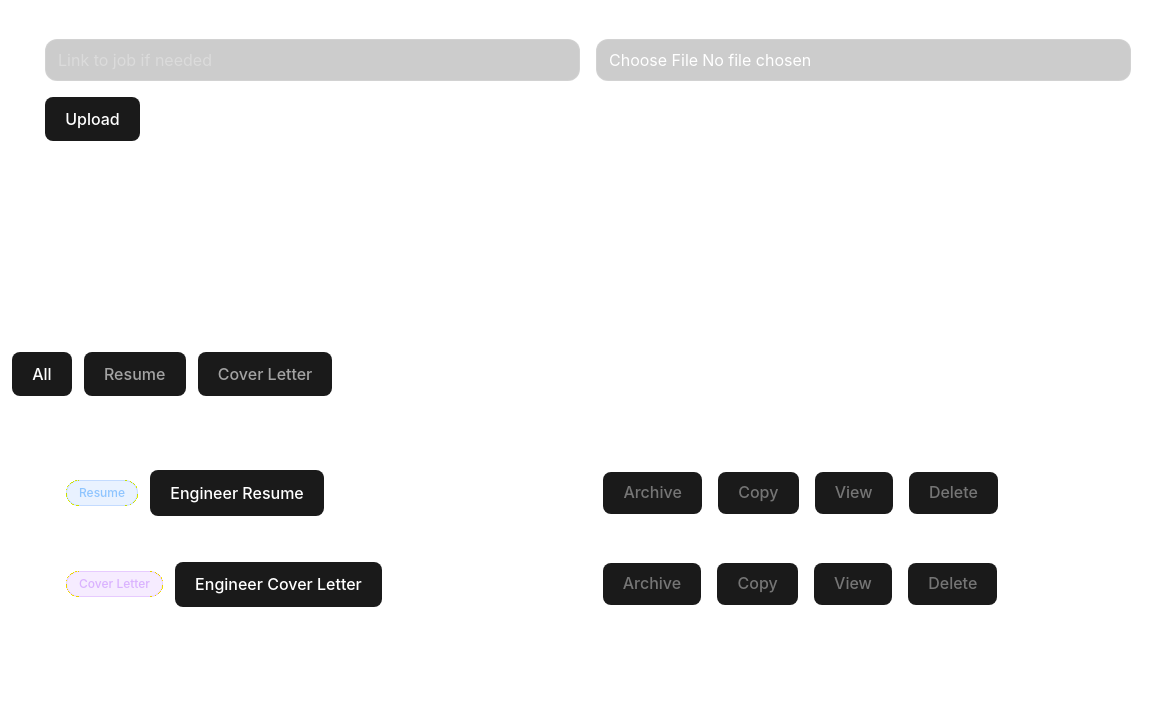
Test: DocumentLibraryPage › archive/restore toggles status without removing the document or changing displayed version
(page scrolled)
Expected: the button "Engineer Resume" is shown, [150,470,324,516]
Click the button with aria-label "archive engineer resume" at (653, 493), box [603,472,702,514]
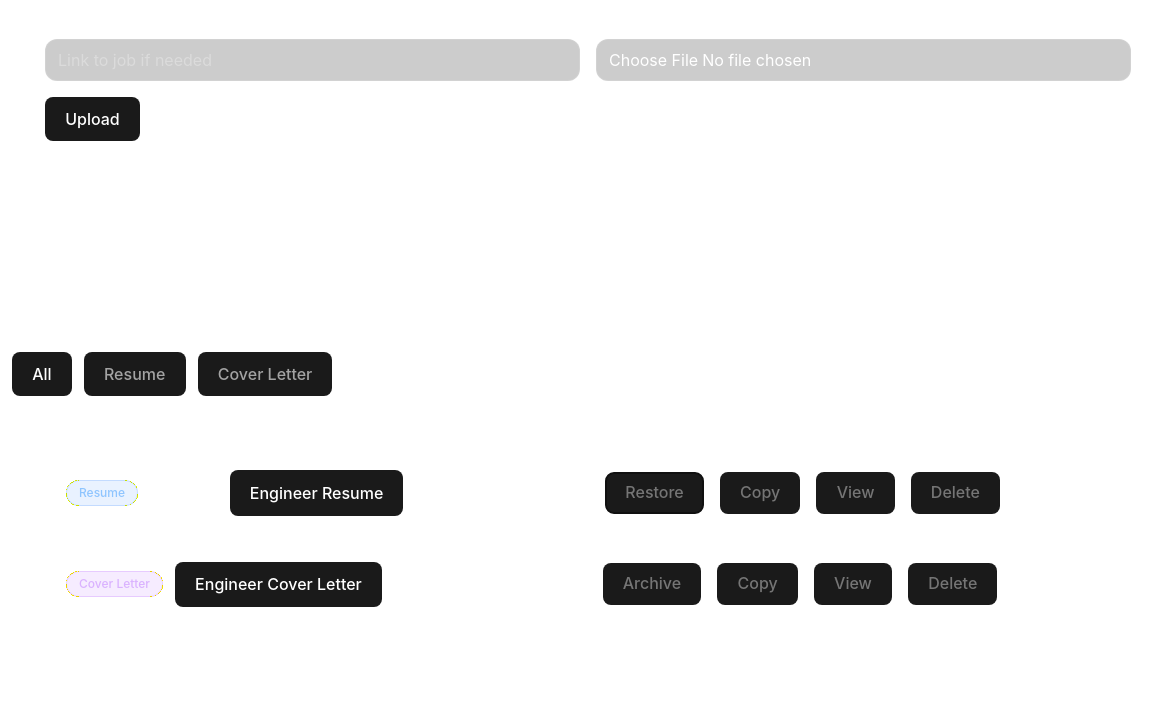
Expected: the button "Engineer Resume" is shown, [230,470,404,516]
Click the button with aria-label "restore engineer resume" at (654, 493), box [605,472,704,514]
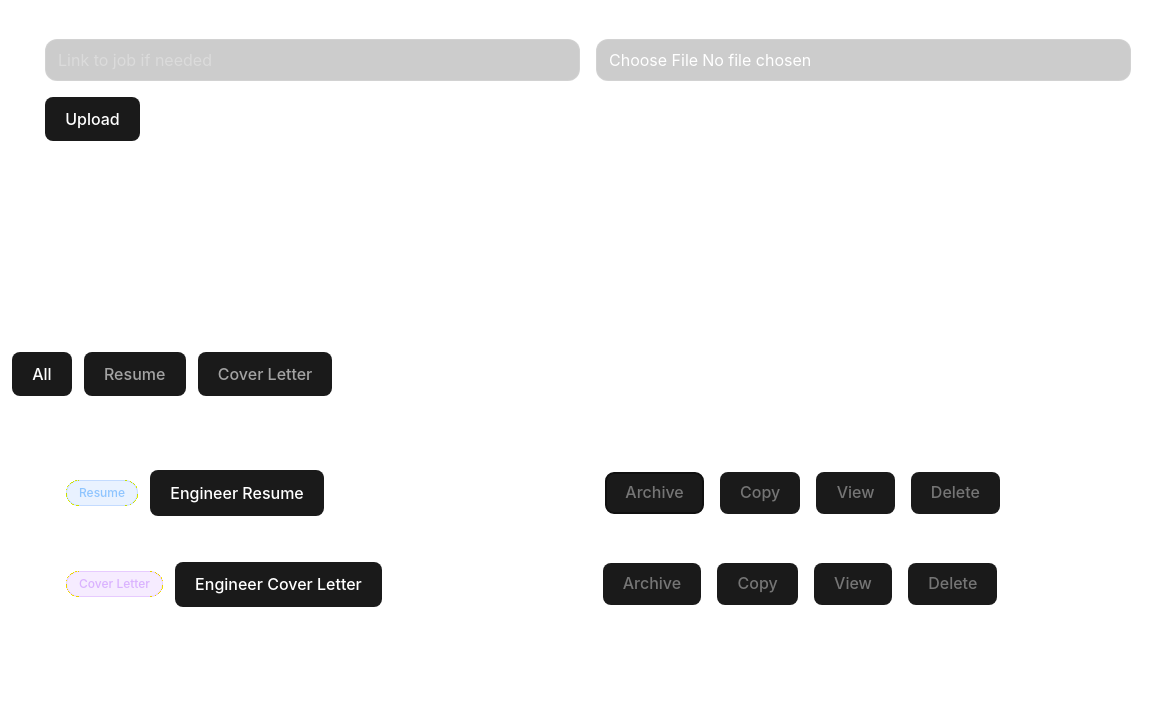
Expected: the button "Engineer Resume" is shown, [150,470,324,516]
Expected: the text "archived" is gone
